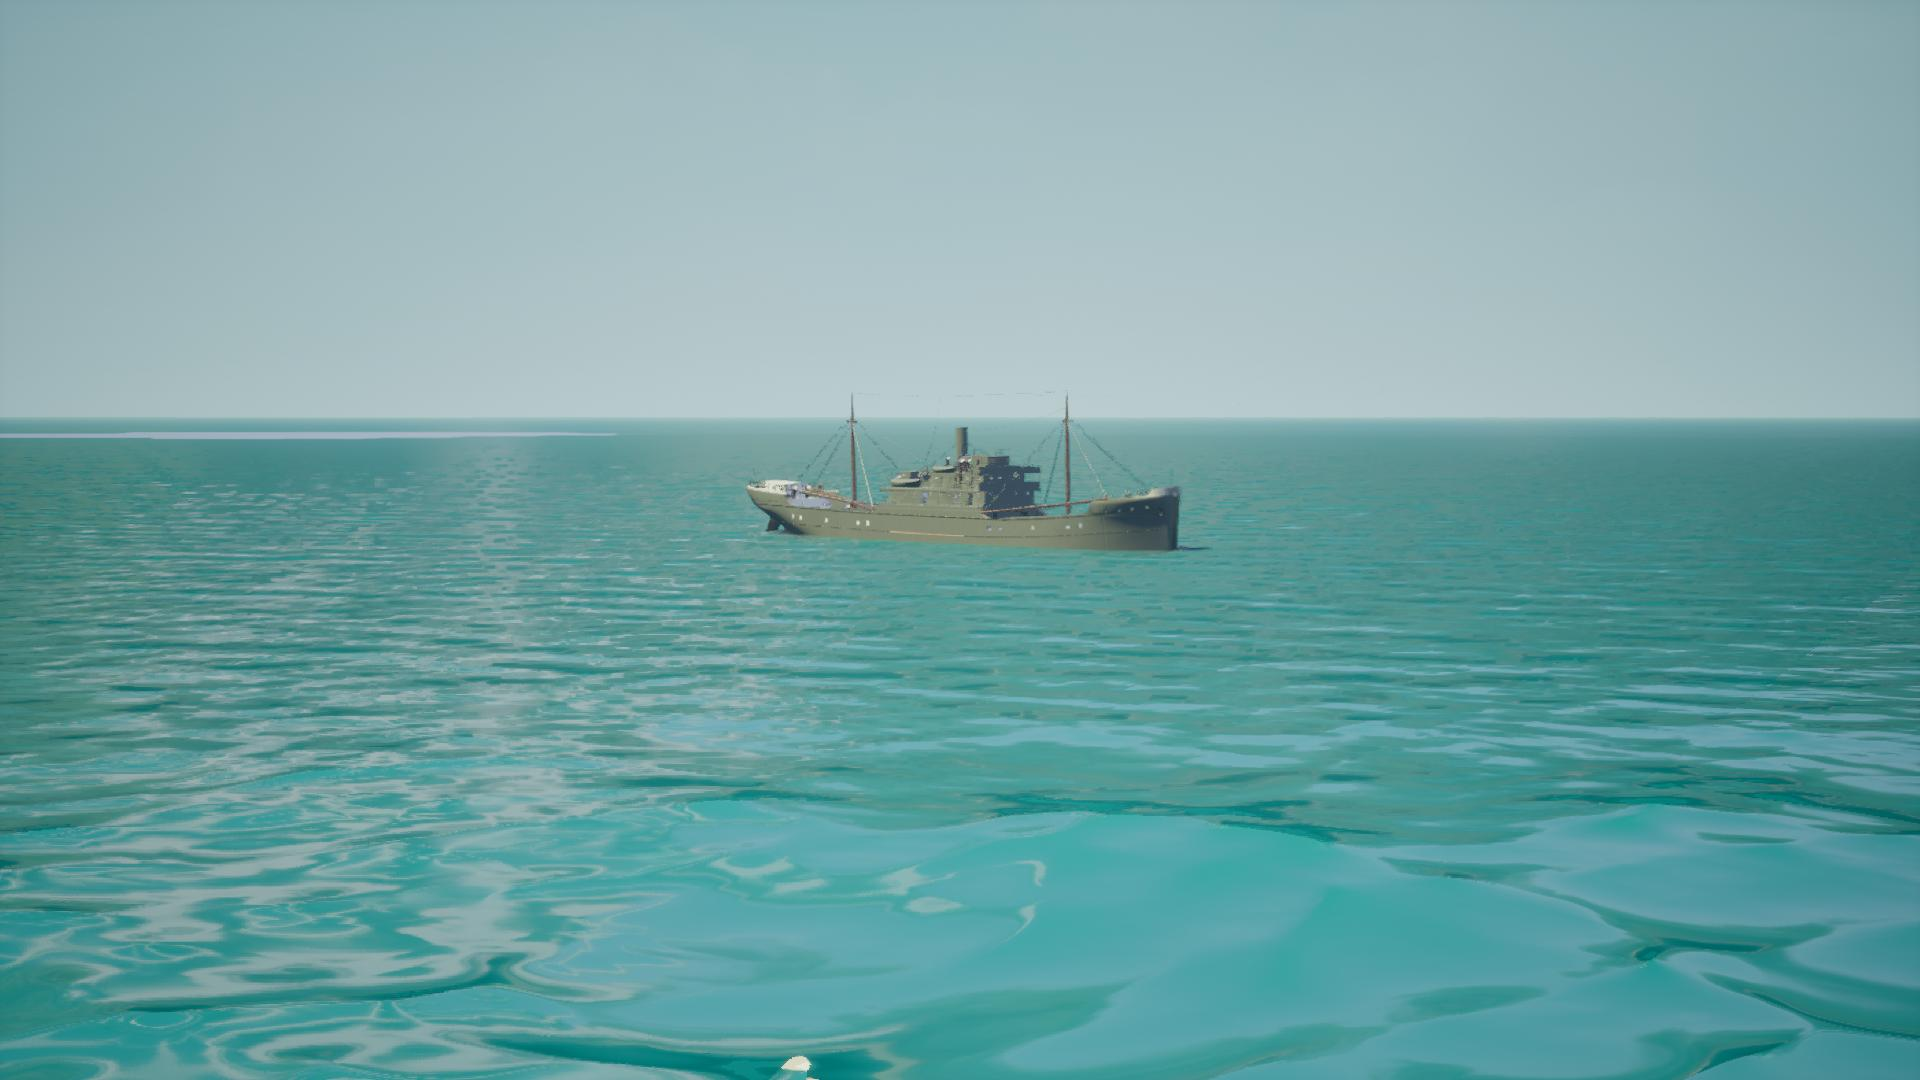Fishing Boat: (746, 394, 1184, 554)
